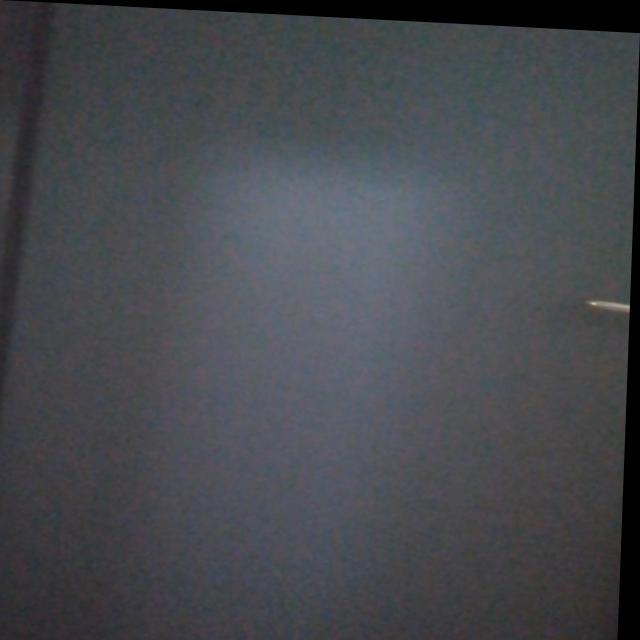door_handle: (579, 288, 633, 315)
